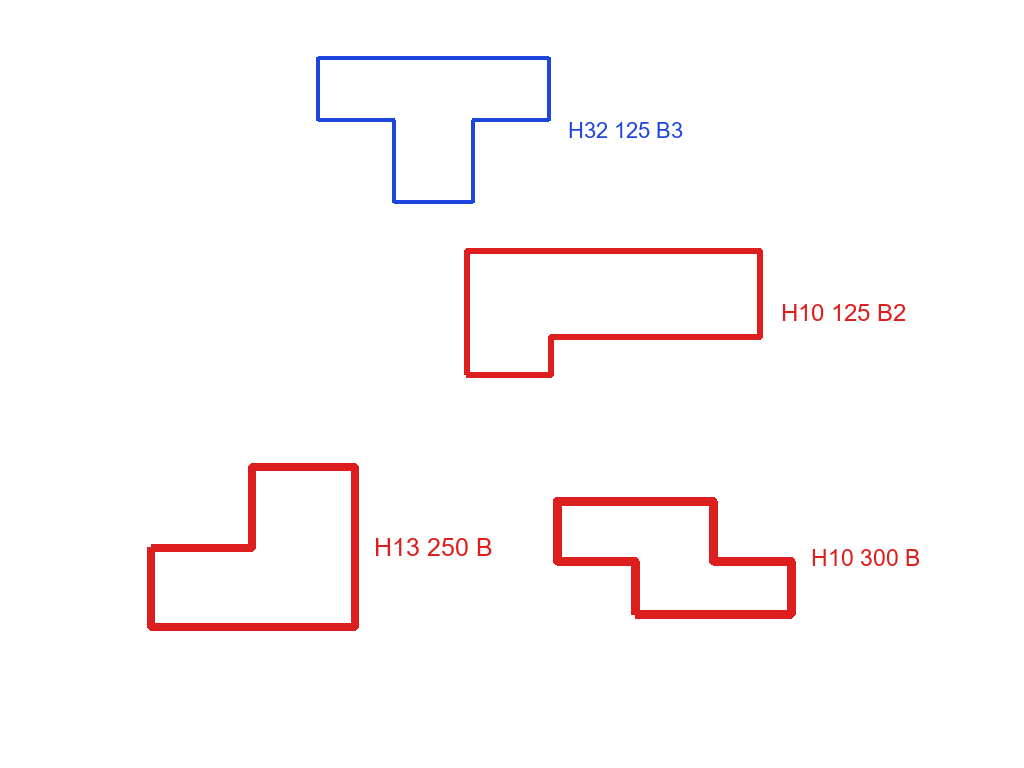shape: (462, 246, 766, 379), (145, 460, 360, 634), (314, 54, 552, 206), (551, 495, 798, 621)
text: (779, 302, 908, 323), (372, 536, 495, 558), (566, 120, 685, 140), (809, 547, 922, 568)
